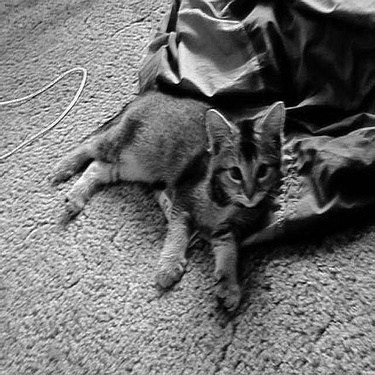cat: (53, 94, 285, 313)
